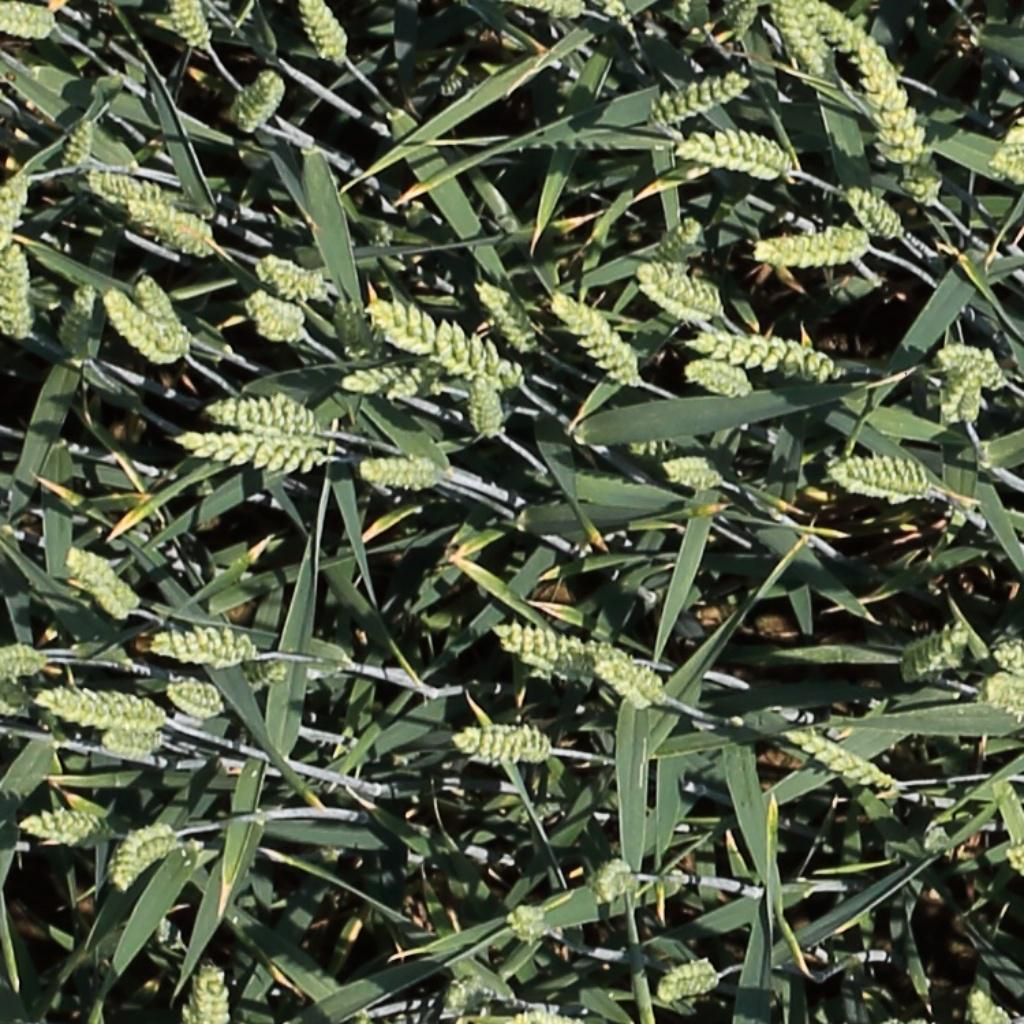0-0: (814, 6, 944, 216), (365, 301, 529, 393), (489, 614, 652, 684), (550, 286, 644, 386), (676, 329, 841, 383), (668, 126, 804, 189), (178, 433, 353, 479), (632, 73, 749, 141), (755, 216, 869, 280), (819, 453, 944, 510), (30, 683, 179, 730), (102, 289, 184, 364), (794, 733, 894, 793), (65, 548, 144, 623), (202, 395, 325, 441), (640, 263, 724, 330), (475, 274, 542, 357), (109, 822, 188, 892), (159, 672, 245, 729), (132, 270, 197, 344), (144, 626, 265, 664), (14, 807, 108, 855), (0, 234, 39, 344), (90, 170, 196, 210), (243, 291, 316, 348), (129, 199, 208, 251), (648, 953, 726, 1005), (780, 0, 836, 72), (357, 457, 449, 500), (845, 181, 907, 240), (299, 0, 352, 66), (903, 626, 969, 679), (680, 359, 761, 402), (232, 68, 283, 135), (598, 660, 667, 708), (58, 277, 98, 359), (100, 723, 176, 762), (382, 354, 449, 398), (0, 1, 65, 46), (936, 346, 1011, 385), (661, 451, 729, 494), (653, 212, 707, 266), (58, 107, 99, 176), (456, 729, 544, 761), (259, 255, 327, 296), (191, 960, 232, 1024), (468, 367, 502, 443), (0, 172, 30, 253), (170, 0, 214, 55), (592, 857, 636, 912), (951, 357, 984, 430), (981, 671, 1024, 725), (0, 640, 56, 679), (331, 289, 361, 359), (980, 631, 1024, 676), (339, 364, 415, 390), (966, 984, 1007, 1024), (0, 660, 27, 719), (431, 981, 485, 1009), (731, 0, 764, 45), (235, 664, 288, 689), (517, 0, 587, 16), (989, 148, 1024, 177)
